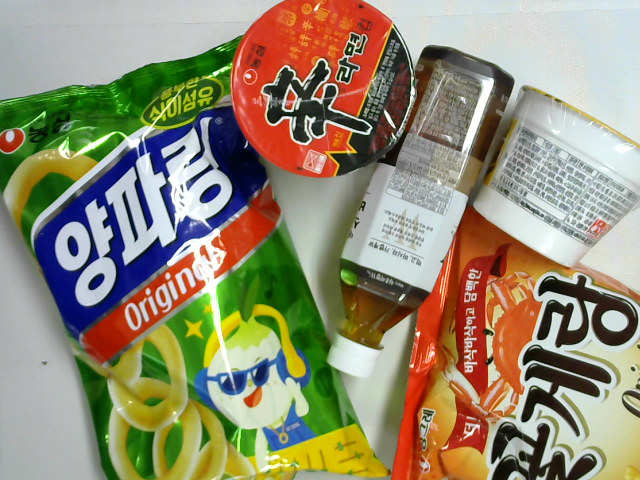Crabrang: (391, 198, 640, 480)
Hejangmini: (470, 83, 640, 270)
Oninon_Ring: (1, 30, 394, 480)
Post-meal_recipe_W_tea_500ml: (325, 43, 517, 381)
Sinramen_small: (228, 1, 419, 179)
